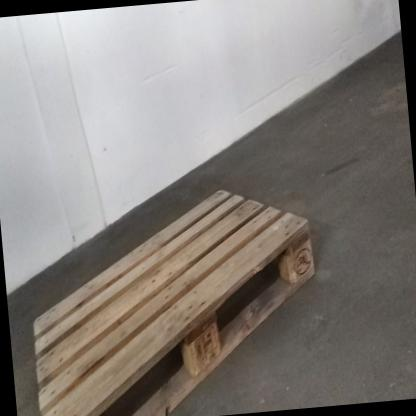BoxFace: (31, 182, 319, 416)
